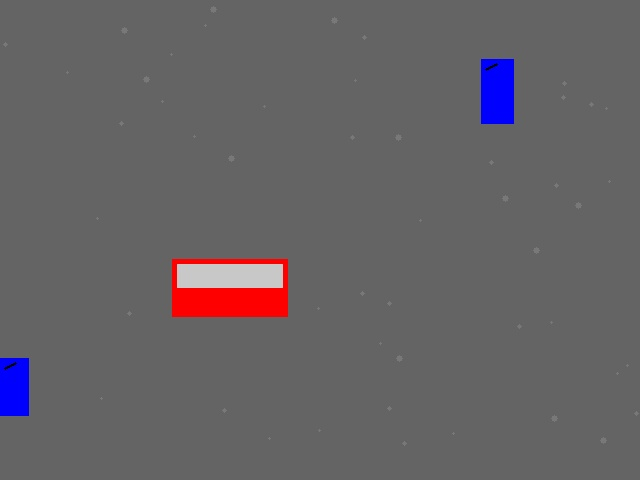car: (172, 259, 287, 316)
motorcycle: (481, 59, 513, 123), (0, 358, 28, 415)
